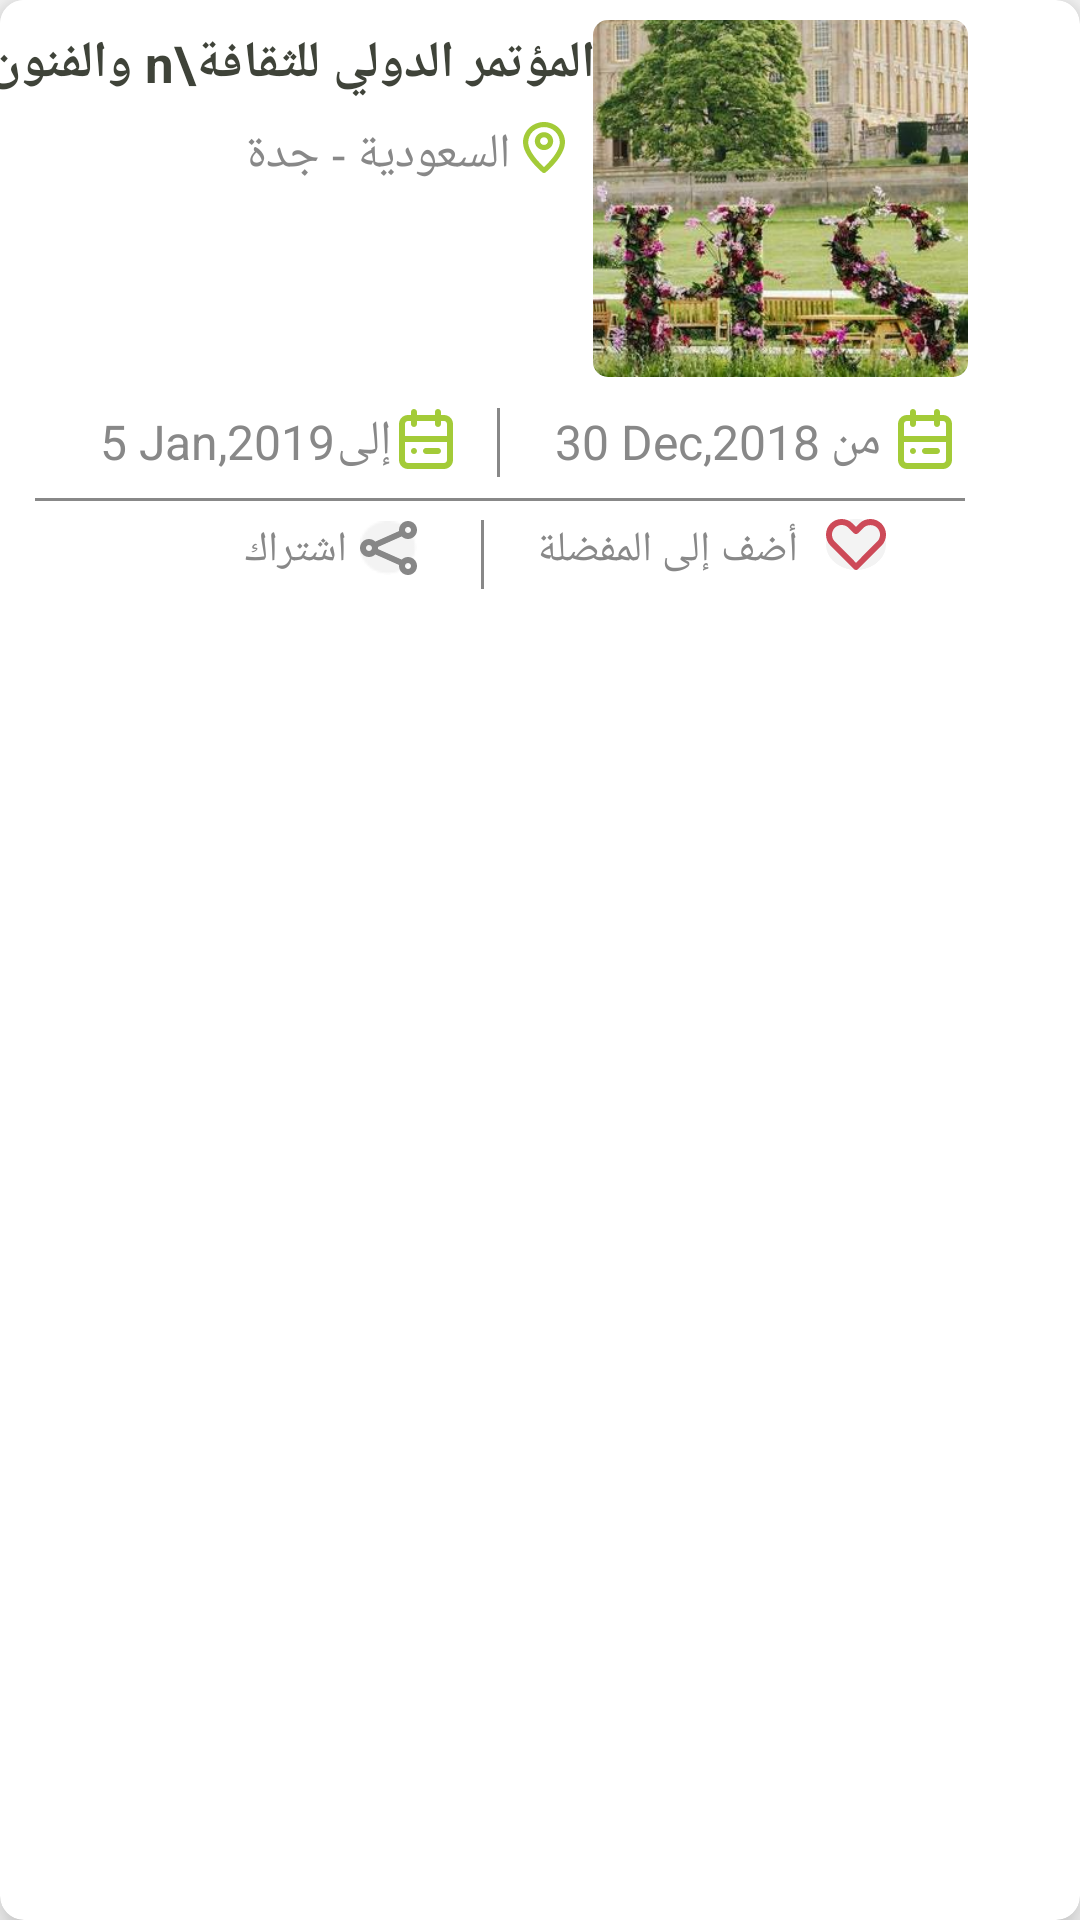

Icons on this 1080*1920 Android screen, each with the point to tap as [x,y]:
heart: [856,544]
